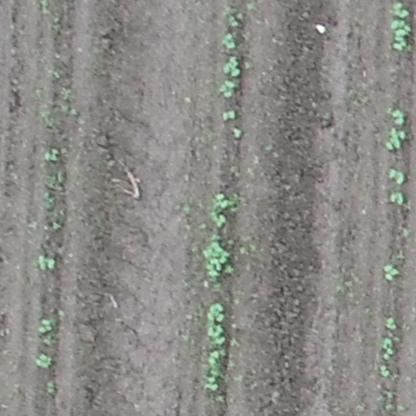vc: (199, 237, 232, 279), (209, 192, 232, 226), (382, 125, 406, 155), (388, 20, 409, 51), (222, 55, 243, 77), (206, 325, 229, 345), (205, 303, 228, 322), (216, 78, 238, 96), (33, 351, 53, 370), (38, 254, 57, 273), (387, 166, 406, 184), (202, 376, 222, 393), (35, 317, 53, 335), (390, 3, 411, 18), (44, 147, 63, 163), (385, 191, 406, 205), (381, 340, 397, 358), (381, 315, 399, 330), (220, 33, 239, 47), (218, 110, 240, 121), (385, 264, 399, 280), (392, 109, 405, 125), (209, 350, 220, 367), (381, 363, 390, 377), (233, 127, 244, 138)
